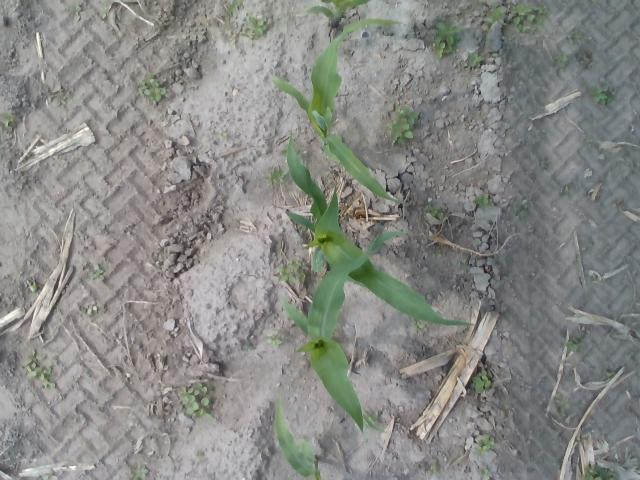Maize: (284, 128, 480, 326), (282, 230, 407, 431), (270, 18, 401, 204), (274, 404, 324, 480), (304, 0, 370, 26)
Weeds: (388, 106, 418, 146), (180, 385, 212, 418), (144, 77, 168, 101), (434, 21, 456, 46), (364, 412, 390, 431), (473, 434, 493, 456), (473, 370, 492, 393), (488, 6, 508, 27), (510, 4, 530, 24), (25, 349, 47, 367), (584, 467, 614, 480), (588, 87, 608, 106), (248, 16, 266, 35), (26, 368, 54, 379), (0, 112, 18, 129), (270, 166, 288, 183), (277, 266, 295, 282), (554, 393, 570, 409), (133, 465, 150, 480), (530, 7, 545, 24), (564, 338, 582, 351), (572, 28, 586, 44), (56, 92, 72, 106), (468, 51, 482, 67), (428, 204, 443, 218), (93, 264, 105, 280), (434, 42, 446, 58), (70, 5, 82, 21), (511, 205, 527, 216), (472, 194, 488, 205), (268, 332, 280, 346), (41, 376, 55, 388), (86, 301, 98, 314), (554, 53, 566, 65), (431, 459, 441, 472), (240, 28, 253, 38), (542, 154, 550, 169), (478, 467, 490, 476), (292, 260, 301, 271), (561, 186, 573, 194), (414, 321, 426, 329), (518, 24, 530, 32), (100, 6, 108, 18), (556, 410, 566, 419), (458, 258, 468, 266), (196, 450, 204, 460), (610, 86, 618, 95), (300, 271, 306, 283), (587, 136, 593, 147), (216, 132, 227, 138), (47, 93, 54, 102), (278, 175, 284, 182)
